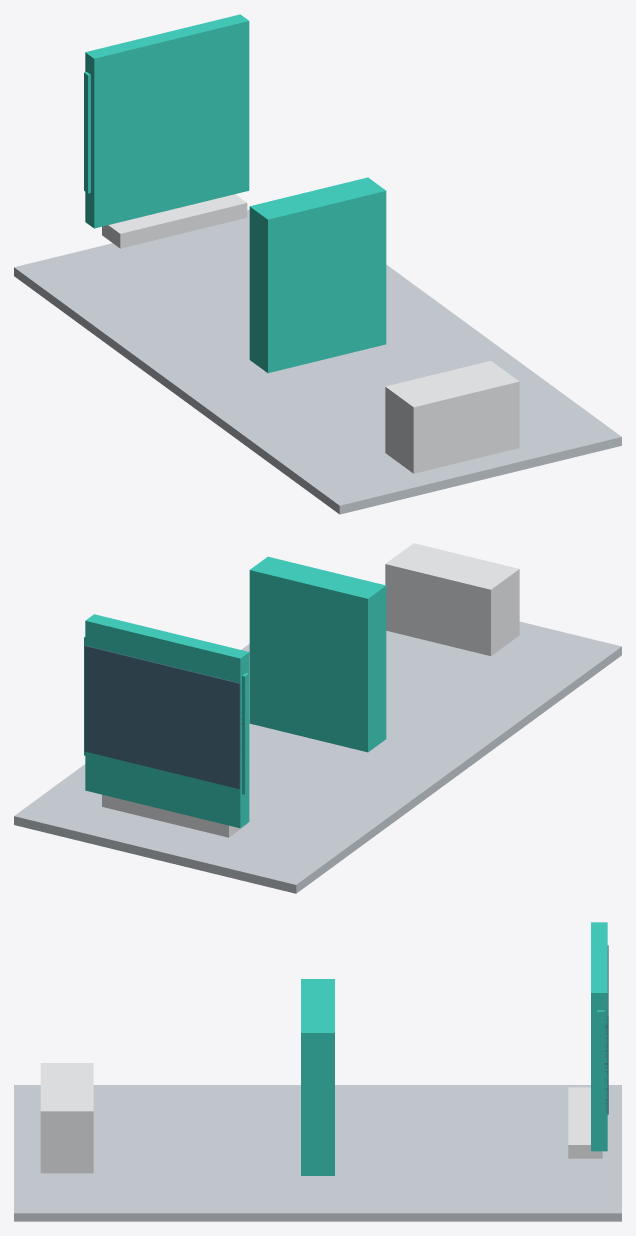
3 renders of one model, top to bottom at view 1: azimuth 30°, elevation 25°; view 2: azimuth 150°, elevation 25°; view 3: azimuth 270°, elevation 25°, orthographic. The views are drawn at different scales.
Visible parts, largest first — view 1: Exhibition Booth Concept; view 2: Exhibition Booth Concept; view 3: Exhibition Booth Concept.
Part boxes in pixels (<box>): Exhibition Booth Concept: <box>14,14,621,514</box>; Exhibition Booth Concept: <box>14,543,621,893</box>; Exhibition Booth Concept: <box>14,922,621,1221</box>.
Size of the model in its own units: 4 by 2.9 by 8.
